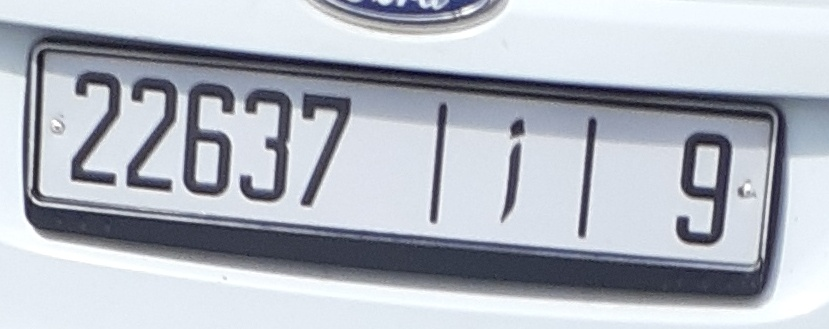2: (62, 62, 122, 189), (125, 72, 181, 195)
3: (237, 83, 297, 209)
6: (180, 79, 236, 202)
7: (295, 90, 363, 213)
9: (665, 124, 740, 253)
a: (488, 108, 538, 232)
